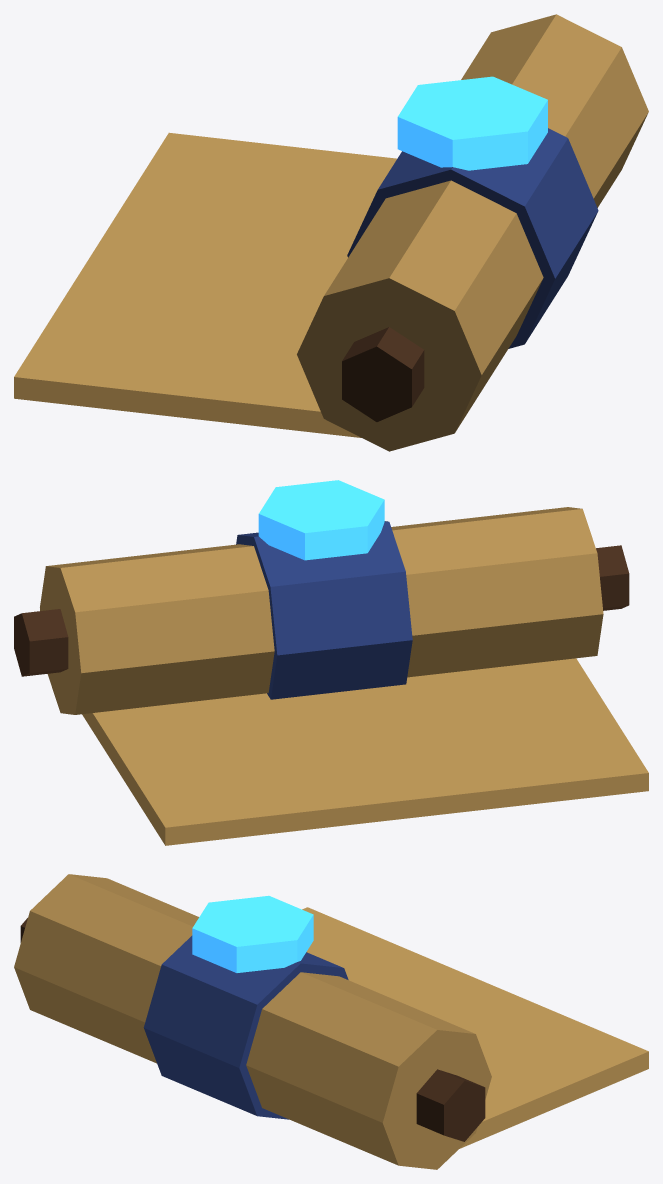
Rendered from town_portal.glb.
The picture shows the model from 3 angles, top to bottom: view 1: azimuth 30°, elevation 25°; view 2: azimuth 150°, elevation 25°; view 3: azimuth 270°, elevation 25°; orthographic projection. The views are drawn at different scales.
Parts seen in each view (by area): view 1: town_portal; view 2: town_portal; view 3: town_portal.
Part boxes in pixels (x1=…): town_portal: x1=14, y1=14, x2=648, y2=451; town_portal: x1=14, y1=480, x2=648, y2=845; town_portal: x1=14, y1=874, x2=648, y2=1169.
Size of the model in its own units: 0.822 by 0.2563 by 0.822.
